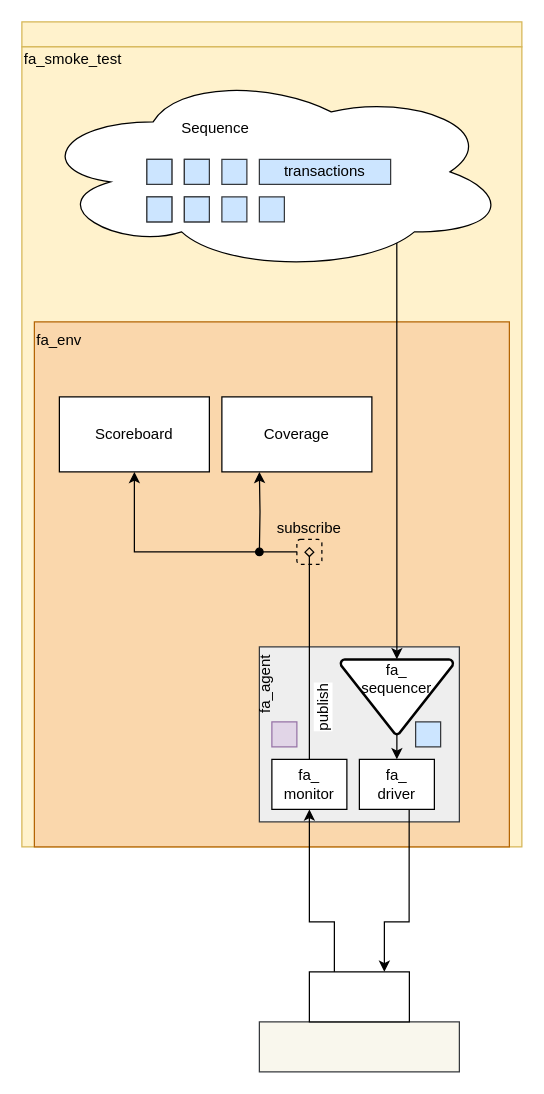
Some shapes in this 544 by 1094 pixel diagram are drawn without their labels. The shapes that lost their labels are listed below. From the top down, each one's centre as x and y in pixels, then its label:
the point at 271,34: fa_coverage_test
the point at 358,996: FA_if
the point at 358,1046: FullAdder
